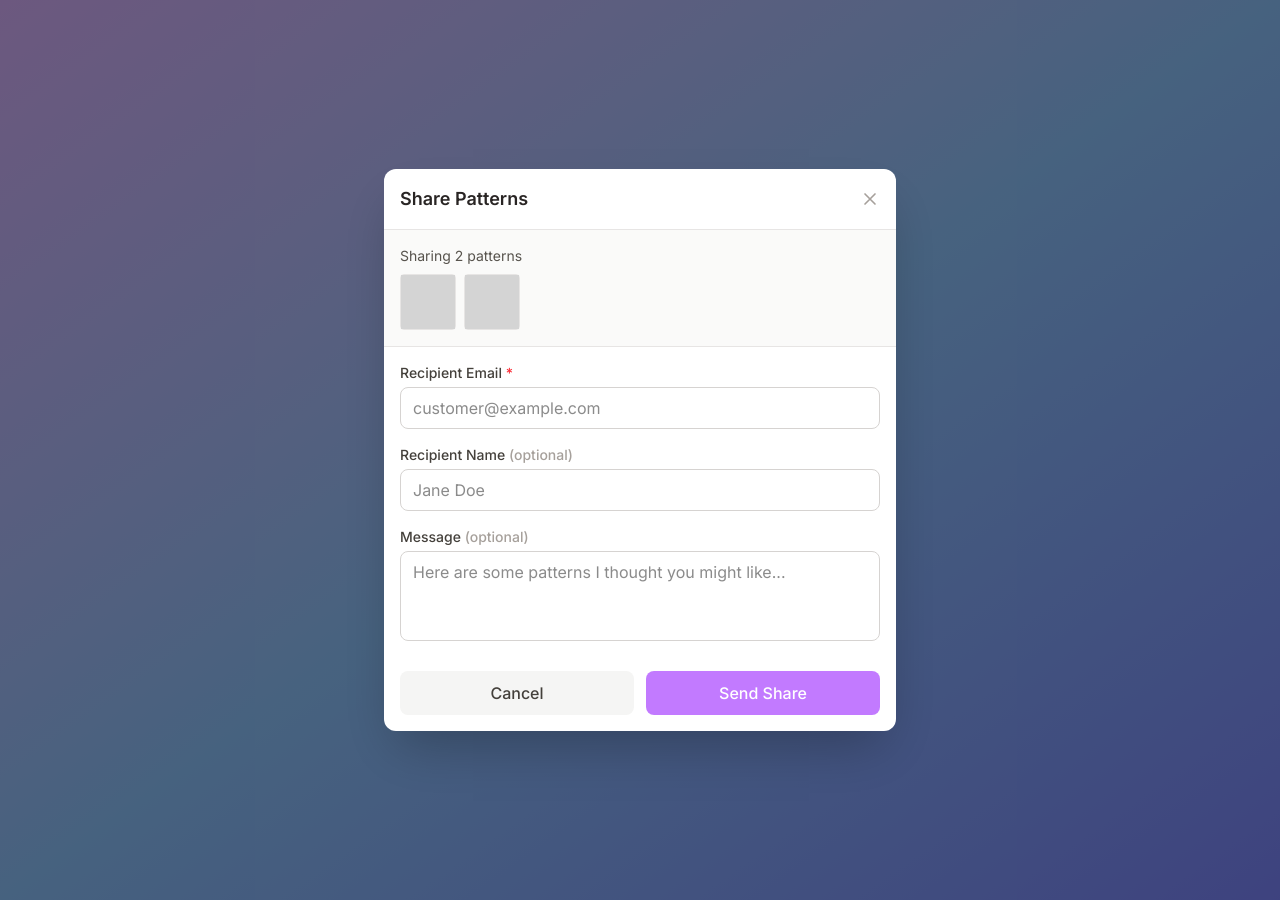
Test: ShareModal › form submission › enables submit button when email is provided
In the field labelled "Recipient Email *": (640, 408) [400,387,880,429], type "test@example.com"
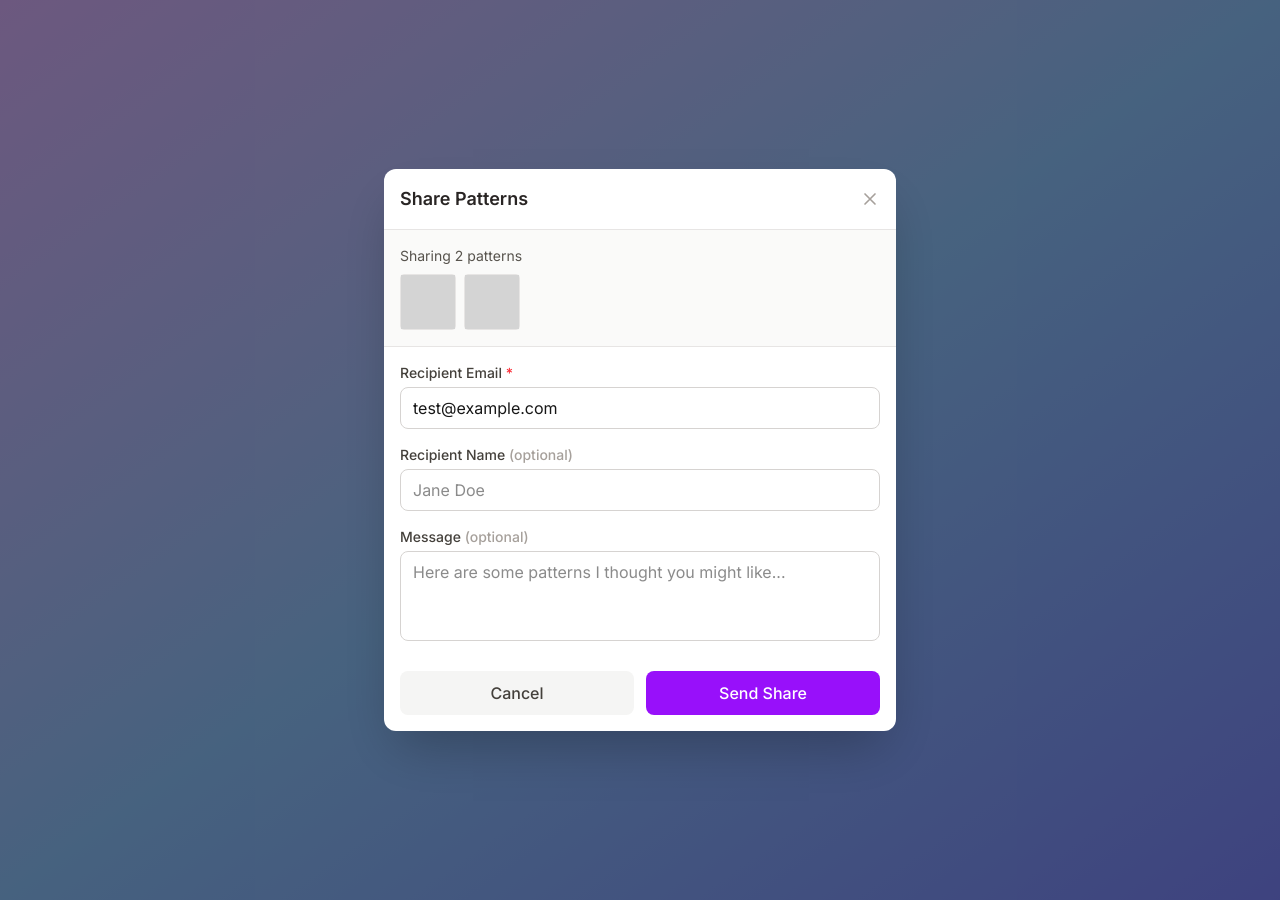
Result: the button "Send Share" is enabled at [646,671,880,715]
